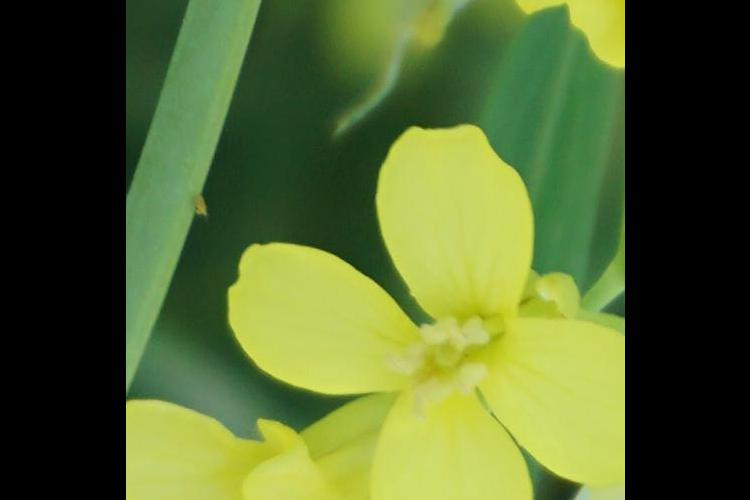yellow: (232, 133, 626, 500), (127, 399, 392, 500), (510, 1, 626, 71)
